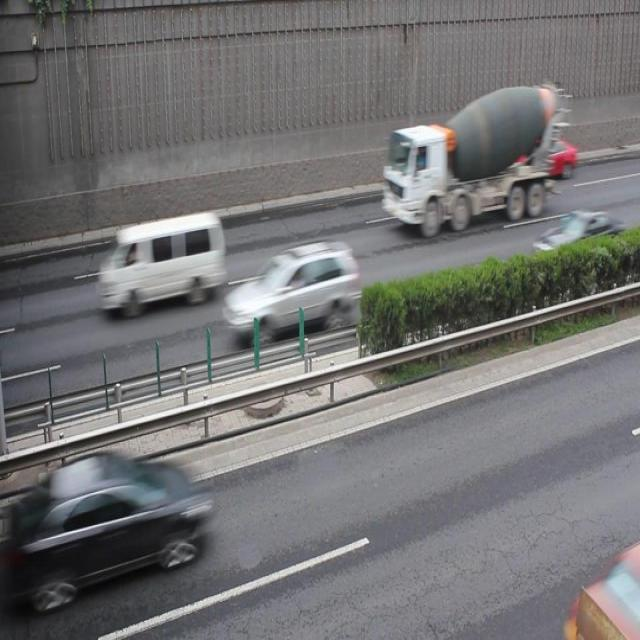bus: (381, 82, 561, 233)
car: (32, 449, 208, 599), (225, 241, 359, 343), (533, 209, 620, 282), (574, 553, 640, 640), (530, 138, 576, 180)
truck: (100, 210, 224, 311)
